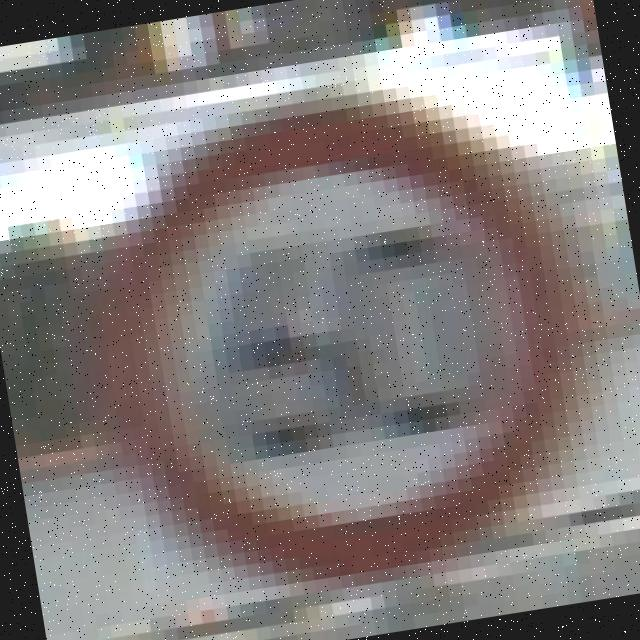Ograniczenie predkosci do 60: (26, 27, 640, 640)
